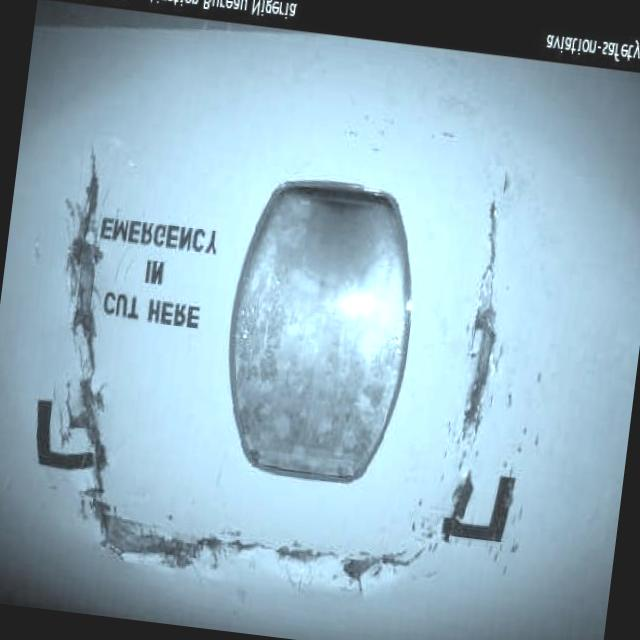crack: (94, 512, 426, 598), (44, 138, 129, 368), (458, 189, 516, 447), (53, 367, 123, 508)
